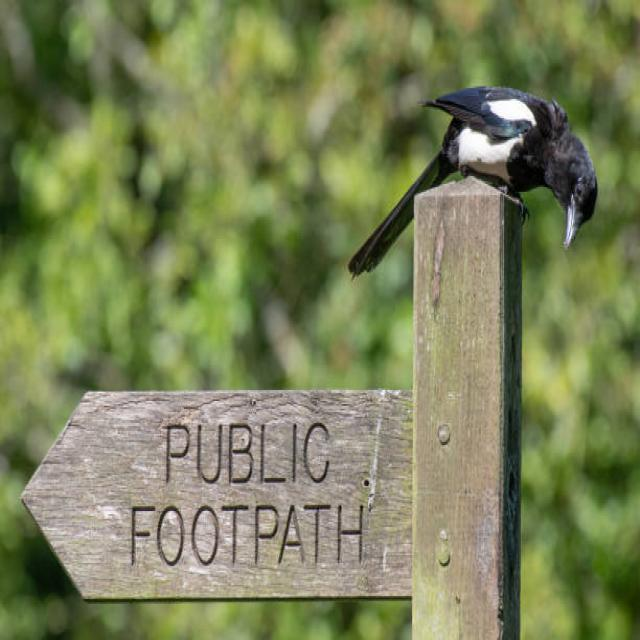Magpie: (346, 72, 604, 288)
